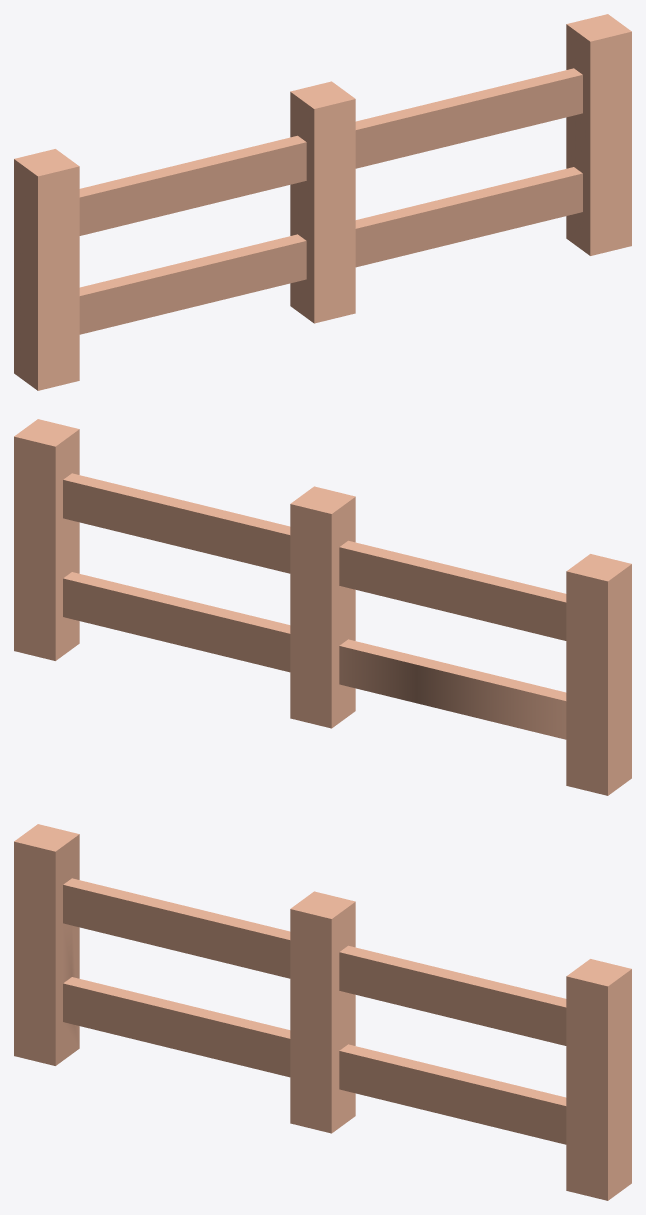
The model's file is fence_simpleCenter.glb.
3 views of the same model, one above another, from view 1: azimuth 30°, elevation 25°; view 2: azimuth 150°, elevation 25°; view 3: azimuth 330°, elevation 25° (orthographic).
Parts seen in each view (by area): view 1: fence_simpleCenter; view 2: fence_simpleCenter; view 3: fence_simpleCenter.
Part boxes in pixels (x1=…): fence_simpleCenter: x1=14, y1=14, x2=631, y2=390; fence_simpleCenter: x1=14, y1=419, x2=631, y2=795; fence_simpleCenter: x1=14, y1=824, x2=631, y2=1200.
Bounding box in the file's own units: 1 × 0.345 × 0.07.
